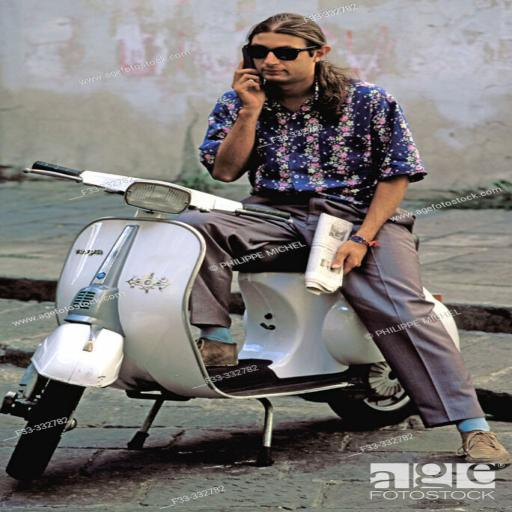helmet: (242, 12, 328, 47)
overloading: (4, 159, 459, 481)
